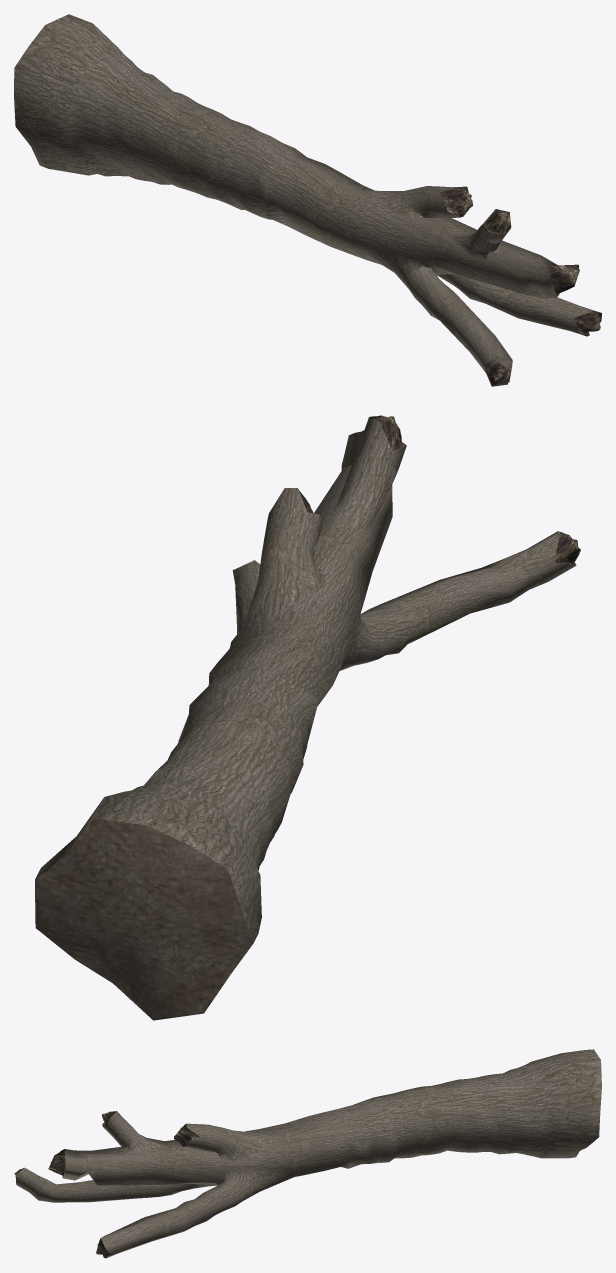
The model's file is oak-fallen.gltf.
3 views of the same model, one above another, from view 1: azimuth 30°, elevation 25°; view 2: azimuth 150°, elevation 25°; view 3: azimuth 270°, elevation 25° (orthographic). The views are drawn at different scales.
Visible parts, largest first — view 1: White oak fallen; view 2: White oak fallen; view 3: White oak fallen.
Boxes of the visible parts, x1=… form: White oak fallen: x1=14, y1=14, x2=601, y2=386; White oak fallen: x1=35, y1=415, x2=580, y2=1020; White oak fallen: x1=14, y1=1049, x2=601, y2=1258.
Bounding box in the file's own units: 274 × 128 × 582.
2 materials, 2 textured.
